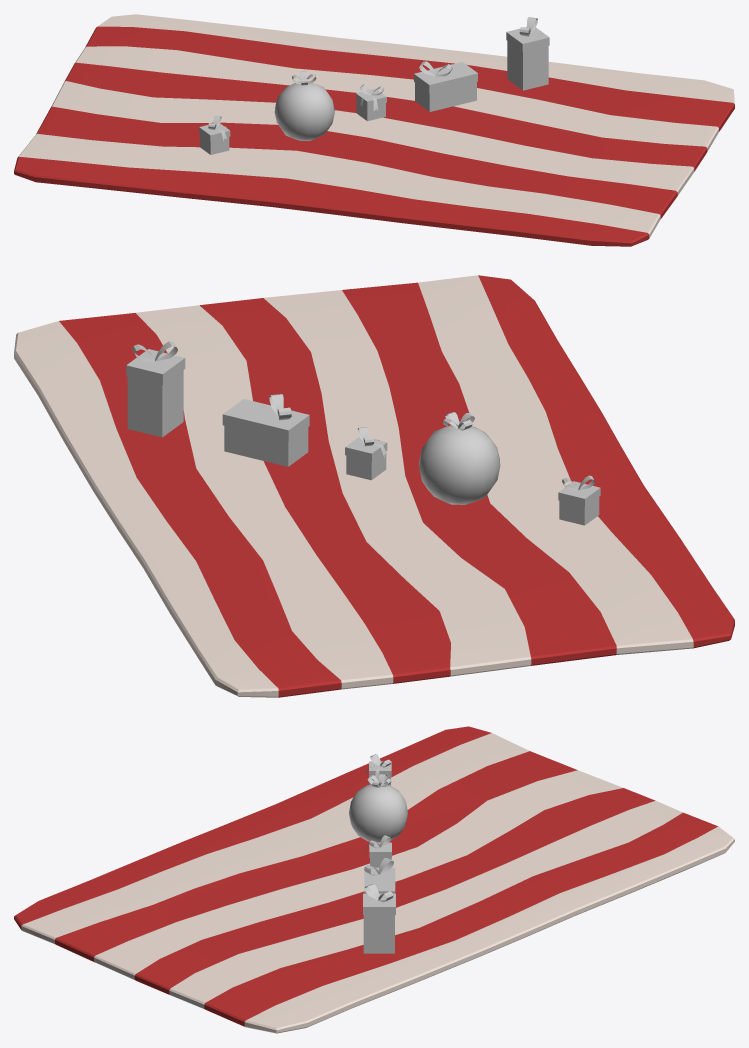
Rendered from Rug with gifts.fbx.
3 views of the same model, one above another, from view 1: azimuth 30°, elevation 25°; view 2: azimuth 150°, elevation 25°; view 3: azimuth 270°, elevation 25° (orthographic). The views are drawn at different scales.
Visible parts, largest first — view 1: Rug, Gift_5, Gift_3, Gift_4, Gift_2, Gift_1; view 2: Rug, Gift_5, Gift_3, Gift_4, Gift_1, Gift_2; view 3: Rug, Gift_5, Gift_4, Gift_3, Gift_2.
Part boxes in pixels (left/top/right/bottom): Rug: left=14, top=14, right=734, bottom=246; Gift_5: left=274, top=71, right=334, bottom=140; Gift_3: left=414, top=61, right=477, bottom=111; Gift_4: left=506, top=17, right=549, bottom=90; Gift_2: left=356, top=84, right=386, bottom=121; Gift_1: left=199, top=116, right=230, bottom=154; Rug: left=14, top=275, right=734, bottom=697; Gift_5: left=419, top=412, right=500, bottom=504; Gift_3: left=222, top=394, right=309, bottom=466; Gift_4: left=126, top=341, right=185, bottom=437; Gift_1: left=558, top=475, right=600, bottom=525; Gift_2: left=345, top=427, right=387, bottom=480; Rug: left=14, top=726, right=734, bottom=1033; Gift_5: left=349, top=774, right=407, bottom=842; Gift_4: left=363, top=884, right=395, bottom=953; Gift_3: left=364, top=858, right=395, bottom=893; Gift_2: left=364, top=835, right=391, bottom=867.
Bounding box in the file's own units: 424 × 47.7 × 426.
